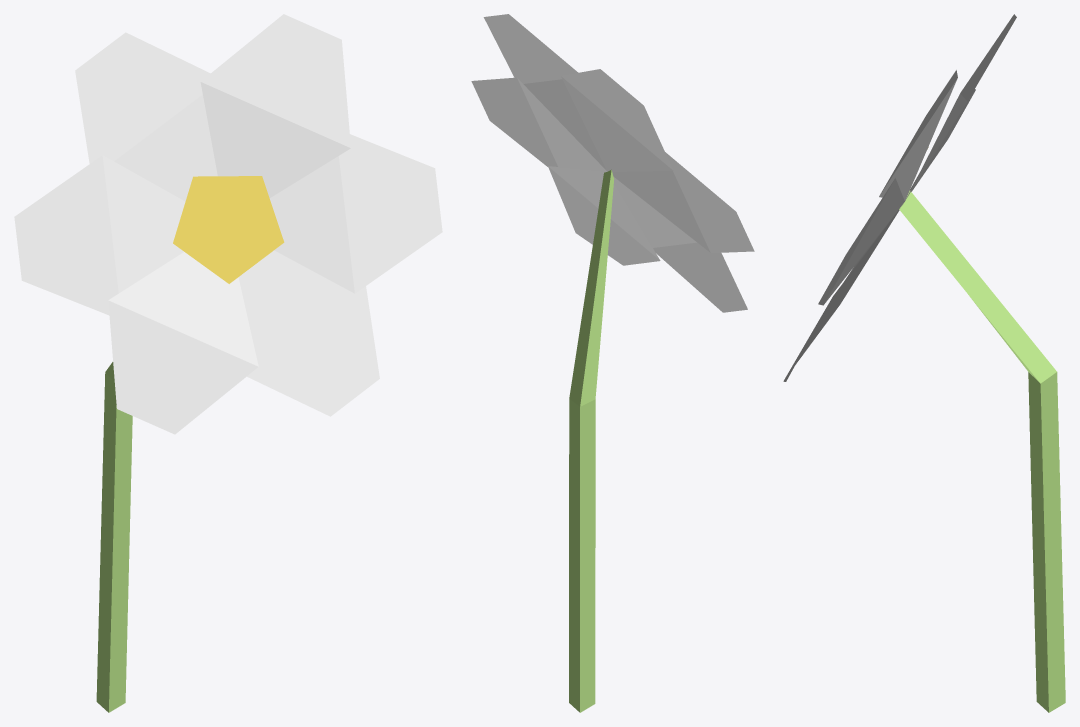
File: Flower_e_OneS_05.fbx
The picture shows the model from 3 angles, left to right: view 1: azimuth 30°, elevation 25°; view 2: azimuth 150°, elevation 25°; view 3: azimuth 270°, elevation 25°; orthographic projection. The views are drawn at different scales.
Parts seen in each view (by area): view 1: Flower_e_OneS_05; view 2: Flower_e_OneS_05; view 3: Flower_e_OneS_05.
Boxes of the visible parts, bbox=[...] form: Flower_e_OneS_05: bbox=[14, 14, 442, 712]; Flower_e_OneS_05: bbox=[471, 14, 754, 712]; Flower_e_OneS_05: bbox=[783, 14, 1065, 712].
Size of the model in its own units: 0.1992 by 0.3653 by 0.134.
